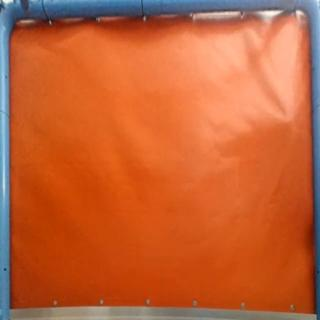Hit-hRxx: (281, 114, 297, 136)
